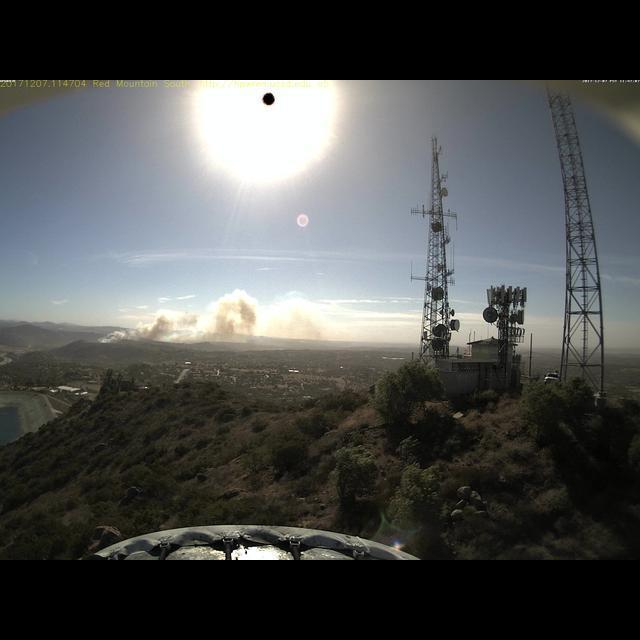Smoke: (96, 284, 335, 347)
